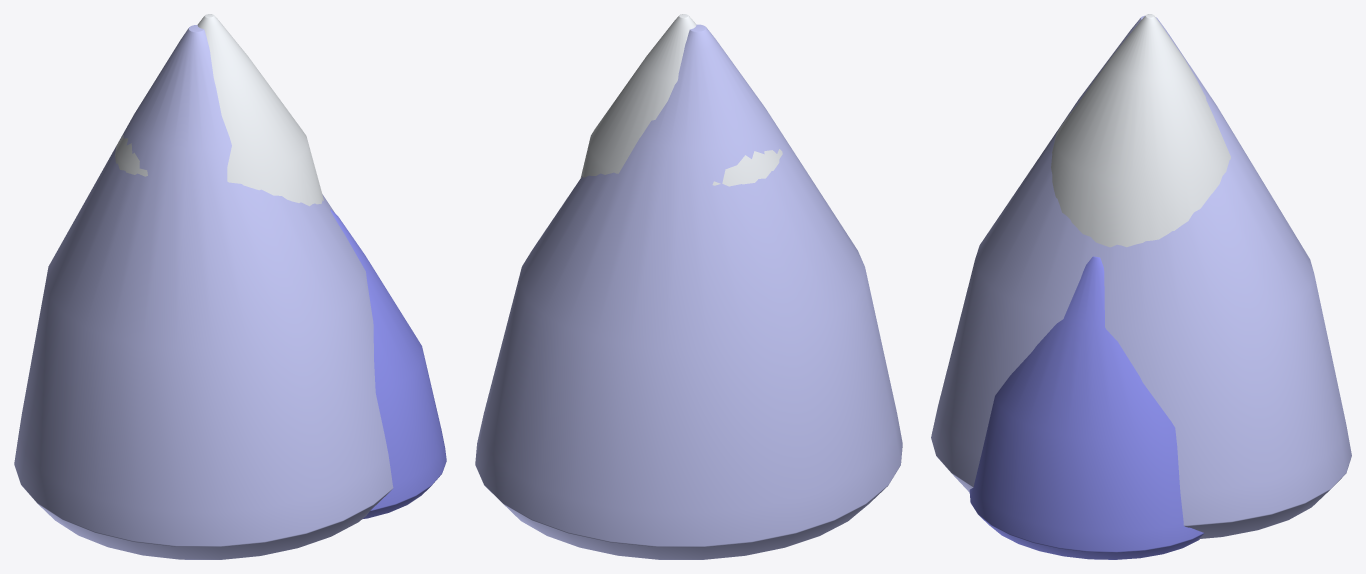
The model's file is SnowPeakA.glb.
The picture shows the model from 3 angles, left to right: view 1: azimuth 30°, elevation 25°; view 2: azimuth 150°, elevation 25°; view 3: azimuth 270°, elevation 25°; orthographic projection. The views are drawn at different scales.
Visible parts, largest first — view 1: SnowPeakA; view 2: SnowPeakA; view 3: SnowPeakA.
Part boxes in pixels (x1,y1,x2,y2): SnowPeakA: [14, 14, 446, 559]; SnowPeakA: [475, 14, 902, 559]; SnowPeakA: [931, 14, 1351, 559].
Bounding box in the file's own units: 95.77 × 114 × 94.31.
1 material, 1 textured.
